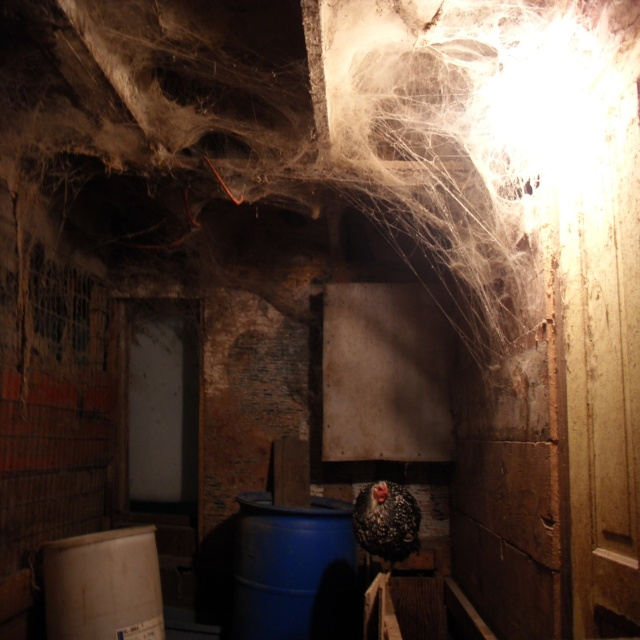Chicken: (351, 484, 417, 579)
